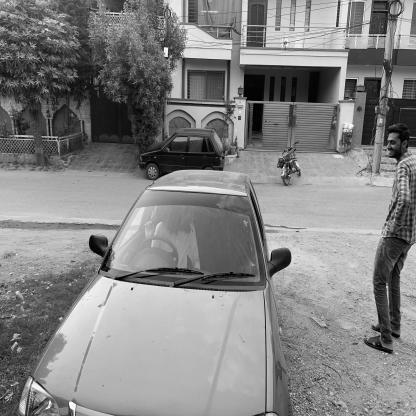no_seatbelt: (158, 203, 193, 263)
